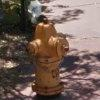Hydrant: (22, 10, 83, 100)
